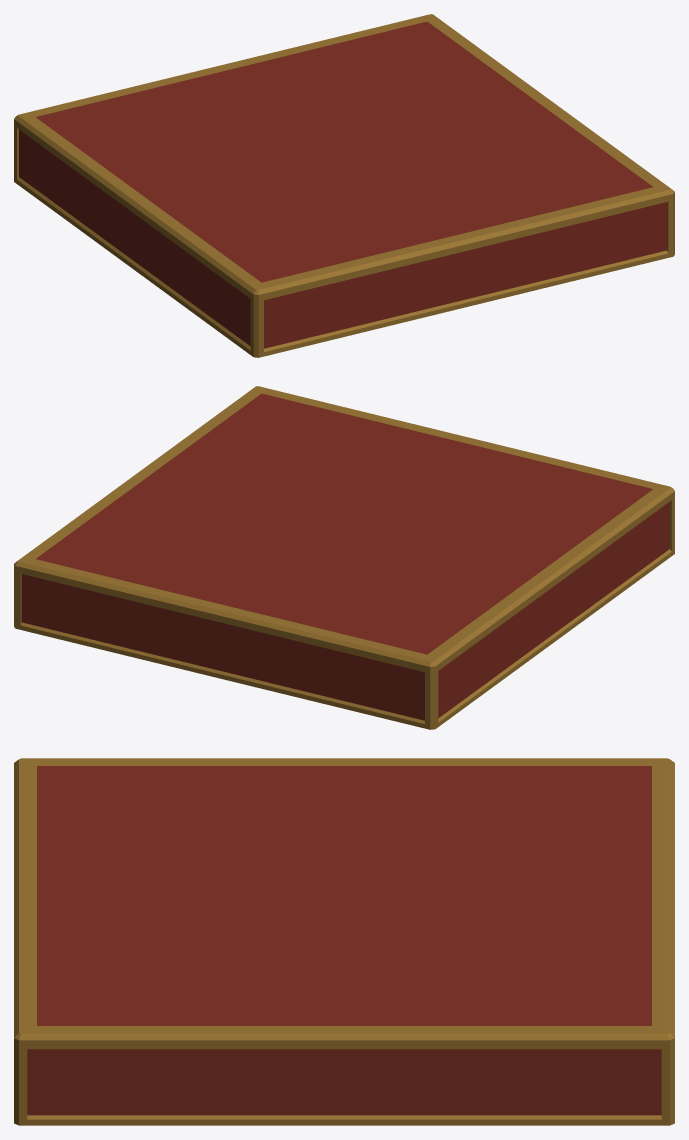
File: raised-pit-platform-8fd586.glb
3 views of the same model, one above another, from view 1: azimuth 30°, elevation 25°; view 2: azimuth 150°, elevation 25°; view 3: azimuth 270°, elevation 25° (orthographic). The views are drawn at different scales.
Visible parts, largest first — view 1: platform; view 2: platform; view 3: platform.
Boxes of the visible parts, x1=… form: platform: x1=14, y1=14, x2=674, y2=357; platform: x1=14, y1=386, x2=674, y2=729; platform: x1=14, y1=758, x2=674, y2=1125.
Size of the model in its own units: 2 by 0.3 by 2.
